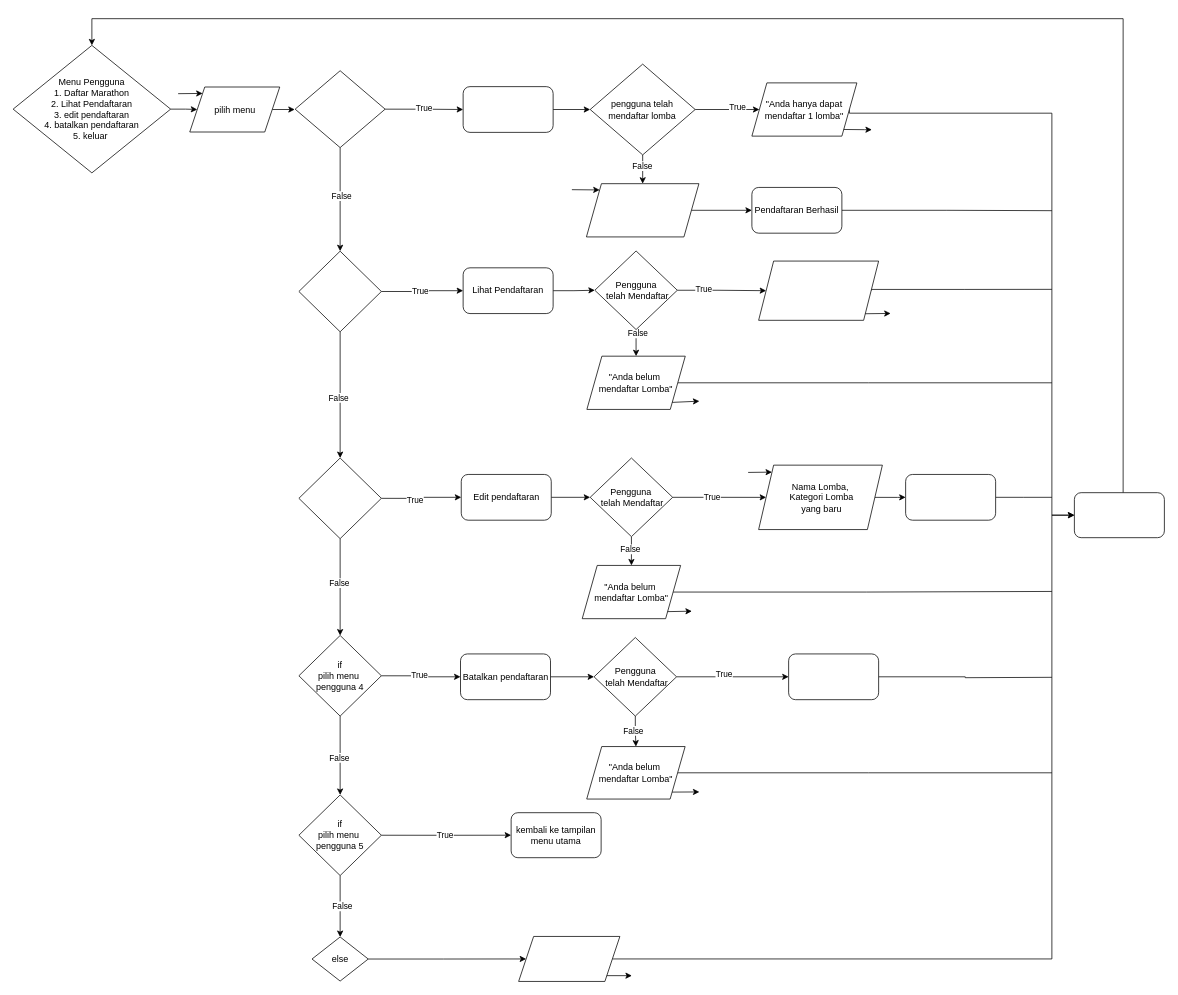
Some shapes in this 1178 by 995 pixel diagram are drawn without their labels. Here are the shapes that lost their labels. From the top down, the centre of each, then its label:
(339,109): if pilih menu pengguna 1
(507,109): Daftar Marathon
(642,210): Nama Lomba, Kategori Lomba
(339,291): if pilih menu pengguna 2
(818,290): Data yang Terdaftar
(339,498): if pilih menu pengguna 3
(950,497): Data diubah sesuai dengan data baru yang diinput
(1119,515): Kembali ke menu pengguna
(833,676): Pendaftaran Dibatalkan
(569,958): "Pilihan Tidak Valid"
